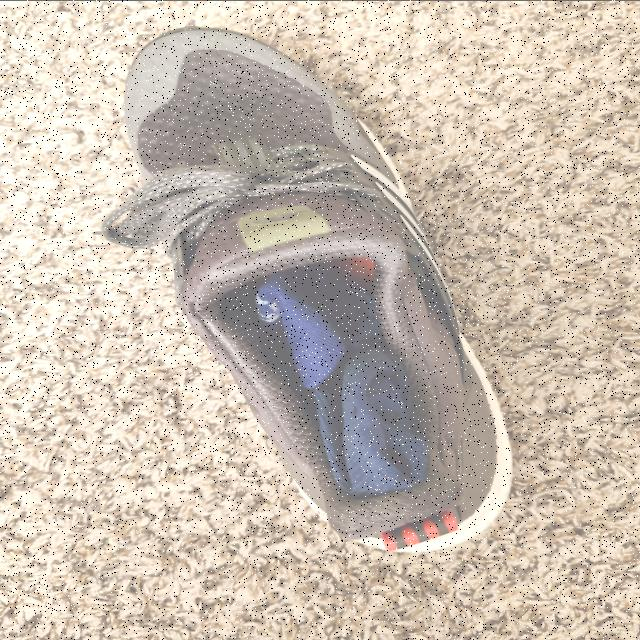black shoes: (128, 29, 516, 552)
